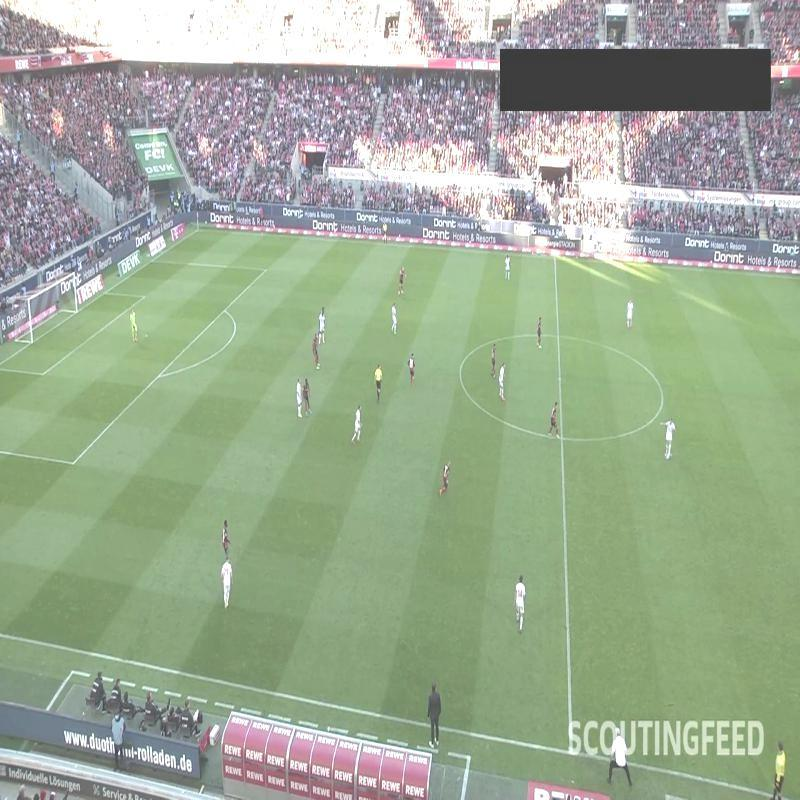1: (191, 223, 205, 237)
10: (217, 304, 231, 318)
11: (153, 368, 167, 382)
12: (64, 454, 82, 472)
13: (548, 251, 562, 265)
14: (550, 328, 566, 344)
15: (555, 430, 569, 447)
16: (555, 740, 585, 768)
2: (145, 255, 159, 269)
3: (98, 286, 112, 299)
7: (138, 289, 152, 303)
8: (36, 367, 50, 381)
9: (260, 263, 274, 277)
c: (652, 388, 672, 408), (453, 364, 467, 378)
